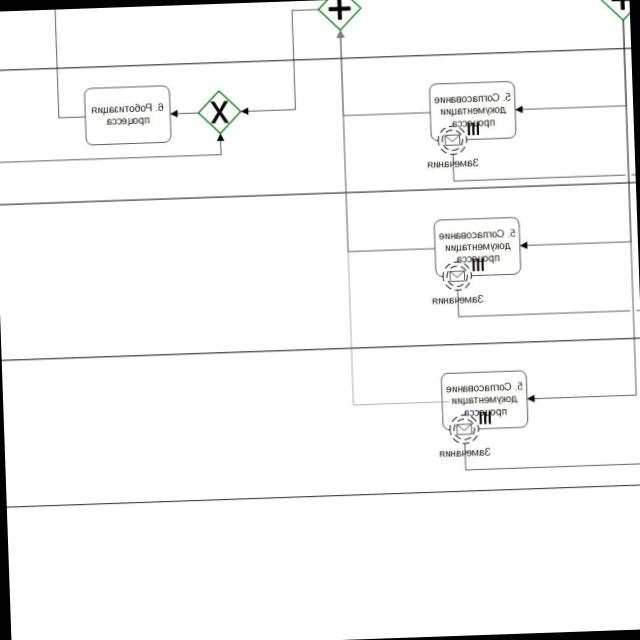arrow: (514, 19, 639, 404), (334, 26, 442, 407), (512, 19, 633, 250), (334, 26, 434, 253), (512, 19, 629, 114), (236, 6, 322, 116), (335, 27, 429, 116), (170, 106, 198, 119)
diamond: (196, 89, 242, 134)
rectangle: (433, 216, 521, 277), (428, 80, 516, 140), (440, 370, 528, 430)
